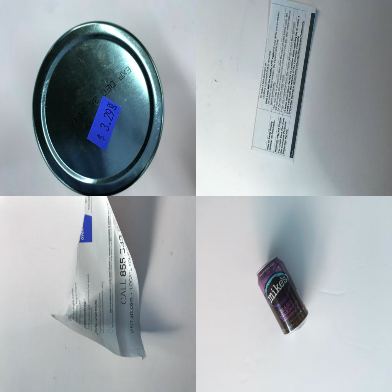metal: (33, 21, 164, 196), (255, 257, 310, 336)
paper: (50, 196, 148, 360), (248, 1, 319, 163)
